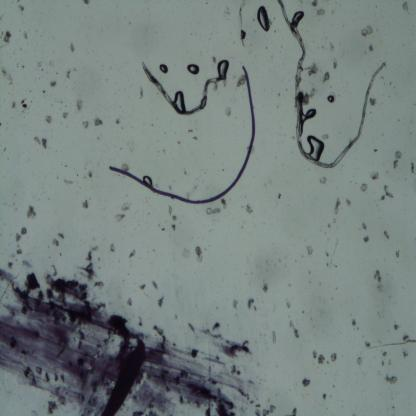Air bubble: (300, 88, 318, 135), (306, 132, 325, 159), (257, 5, 271, 32), (174, 90, 188, 110), (217, 59, 231, 77), (291, 10, 304, 26), (159, 62, 169, 76), (187, 65, 201, 74), (143, 175, 153, 186), (326, 92, 336, 103)
Background material: (359, 335, 416, 354), (325, 218, 341, 272), (84, 245, 98, 265), (1, 66, 14, 86), (383, 370, 400, 385), (373, 269, 384, 292), (302, 88, 316, 106), (289, 319, 300, 340), (305, 62, 319, 77), (219, 0, 232, 16), (361, 23, 374, 39), (194, 246, 204, 264), (319, 68, 331, 83), (383, 184, 394, 200), (27, 204, 38, 219), (2, 30, 13, 45), (369, 169, 381, 182), (113, 212, 126, 224), (93, 115, 105, 128), (157, 295, 166, 310), (334, 197, 341, 216), (304, 244, 314, 257), (238, 74, 247, 88), (181, 247, 190, 260), (402, 1, 410, 15), (64, 70, 74, 81), (302, 376, 311, 388), (245, 203, 254, 215), (20, 97, 28, 110), (17, 4, 27, 14), (120, 162, 130, 172), (120, 202, 130, 212), (394, 149, 403, 160), (22, 30, 30, 42), (82, 199, 90, 211), (356, 355, 364, 367), (62, 177, 74, 185), (20, 226, 28, 238), (76, 99, 84, 111), (369, 94, 376, 107), (410, 160, 416, 175), (231, 299, 240, 309), (392, 322, 401, 332), (319, 176, 328, 186), (44, 114, 53, 124), (82, 120, 90, 131), (128, 248, 136, 259), (34, 135, 42, 146), (316, 8, 327, 16), (52, 237, 60, 248), (363, 233, 370, 245), (151, 280, 158, 292), (221, 197, 228, 209), (247, 297, 254, 309), (69, 42, 76, 54), (350, 318, 359, 327), (14, 247, 23, 256), (330, 354, 339, 363), (6, 260, 14, 270), (271, 329, 276, 345), (14, 233, 22, 243), (360, 184, 368, 194), (139, 282, 147, 292), (392, 161, 400, 171), (212, 207, 222, 215), (42, 137, 48, 150), (225, 106, 232, 117), (109, 242, 116, 253), (360, 222, 368, 231), (262, 282, 268, 294), (318, 354, 324, 366), (56, 233, 66, 240), (364, 338, 371, 348), (62, 110, 69, 120), (139, 86, 144, 100), (290, 406, 297, 416), (87, 169, 93, 180), (402, 352, 410, 360), (186, 126, 194, 134), (402, 335, 410, 343), (383, 231, 390, 240), (49, 81, 58, 88), (276, 190, 282, 200), (171, 225, 177, 235), (82, 0, 92, 6), (380, 358, 386, 368), (269, 403, 275, 413), (206, 208, 212, 218), (312, 350, 318, 360), (346, 198, 352, 208), (167, 206, 173, 216), (286, 300, 293, 308), (332, 61, 338, 70), (161, 146, 167, 155), (369, 42, 374, 52), (127, 298, 132, 308), (382, 350, 388, 358), (37, 60, 43, 68), (380, 194, 386, 202), (330, 45, 336, 53), (262, 408, 270, 414), (115, 115, 120, 124), (310, 2, 319, 7), (72, 66, 78, 73), (14, 60, 20, 67), (212, 57, 217, 65), (322, 392, 327, 400), (396, 249, 400, 258), (168, 183, 172, 191), (12, 102, 16, 110), (173, 216, 178, 222), (372, 148, 378, 153), (160, 227, 166, 232), (388, 358, 392, 365), (193, 136, 198, 141), (20, 63, 24, 69), (177, 140, 181, 145), (182, 170, 186, 175), (42, 90, 46, 94), (41, 68, 44, 72), (0, 121, 1, 127), (28, 90, 31, 92), (30, 100, 32, 103)
Cellulose filter fibre: (275, 0, 387, 169), (136, 64, 230, 116), (237, 1, 249, 46)
Microfibre: (108, 64, 256, 207)
Pen: (0, 265, 250, 416)
